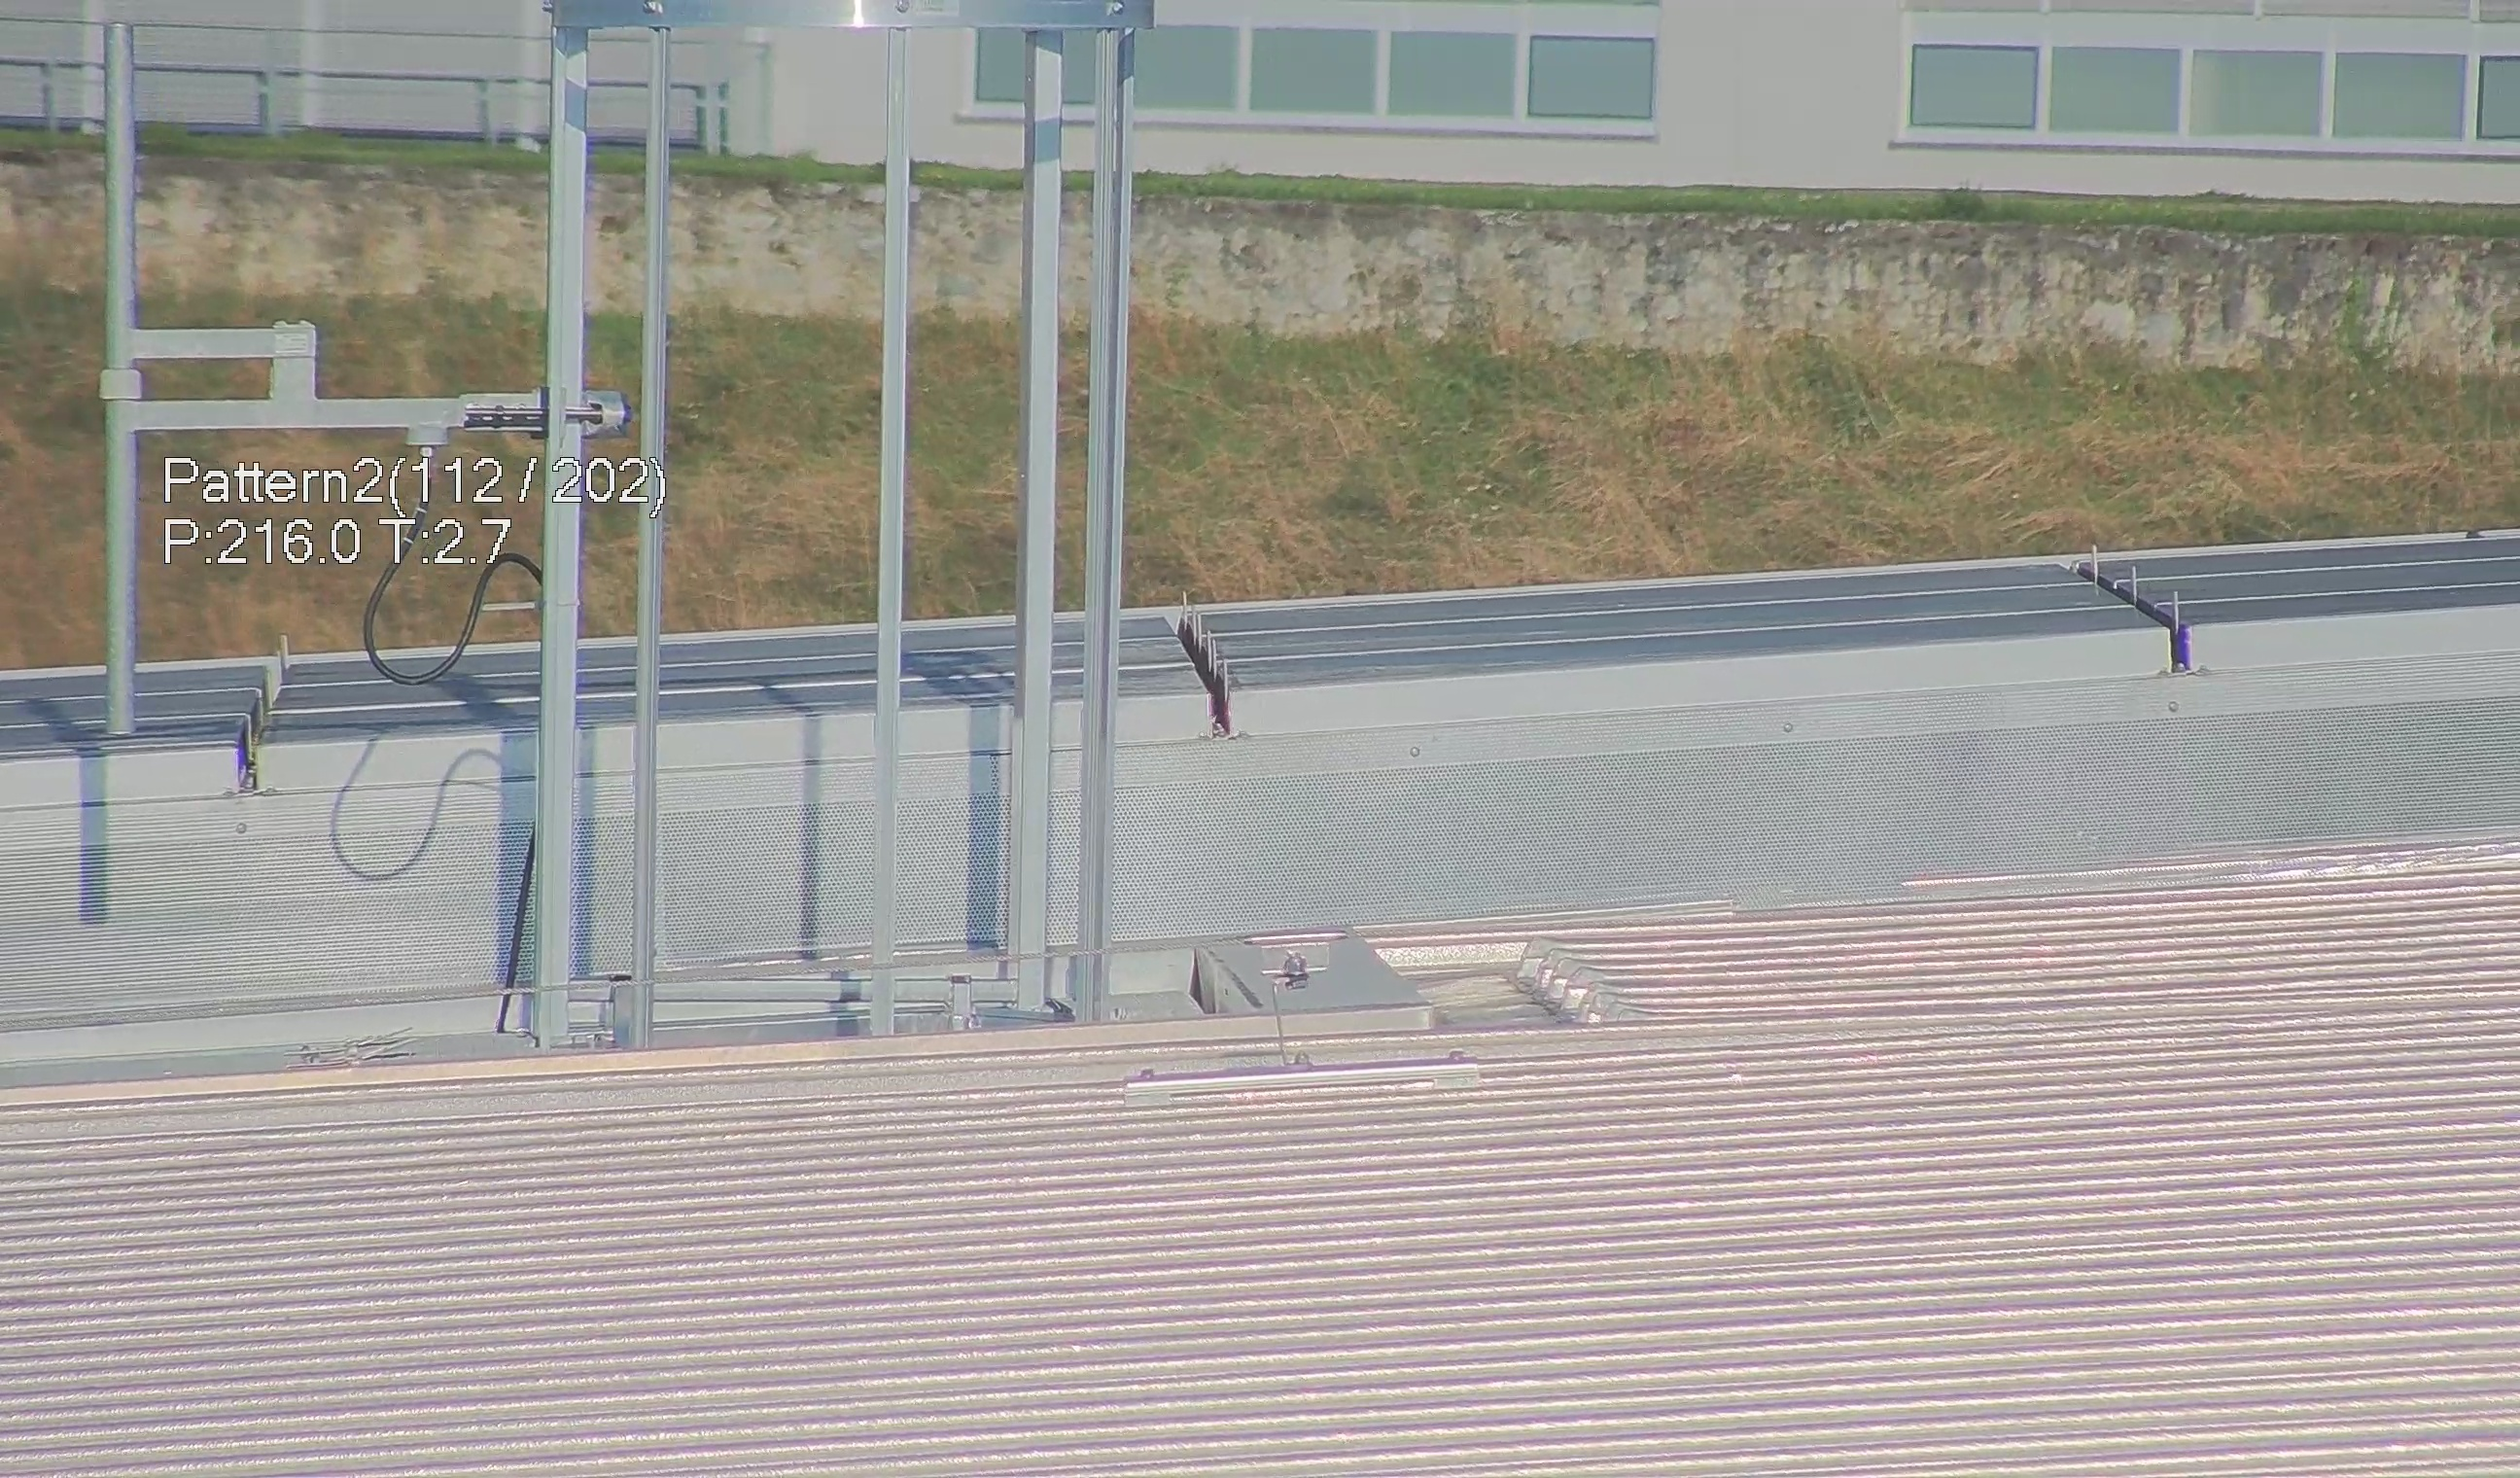Other: (1155, 581, 1245, 746)
